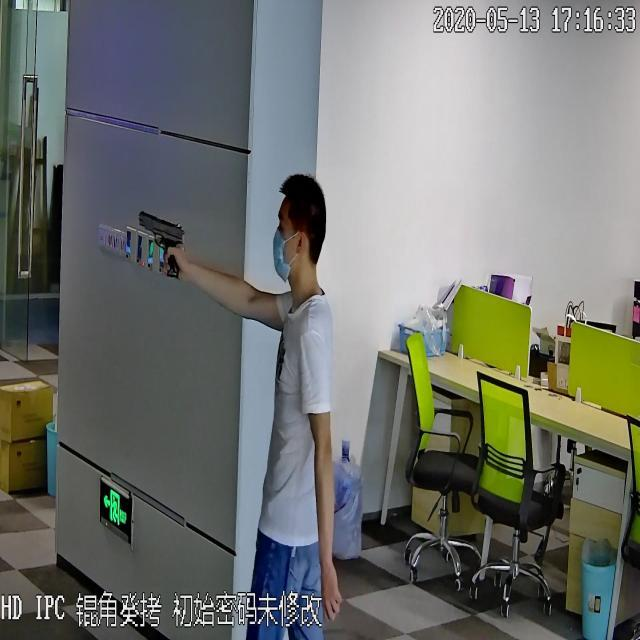gun: (133, 201, 189, 284)
